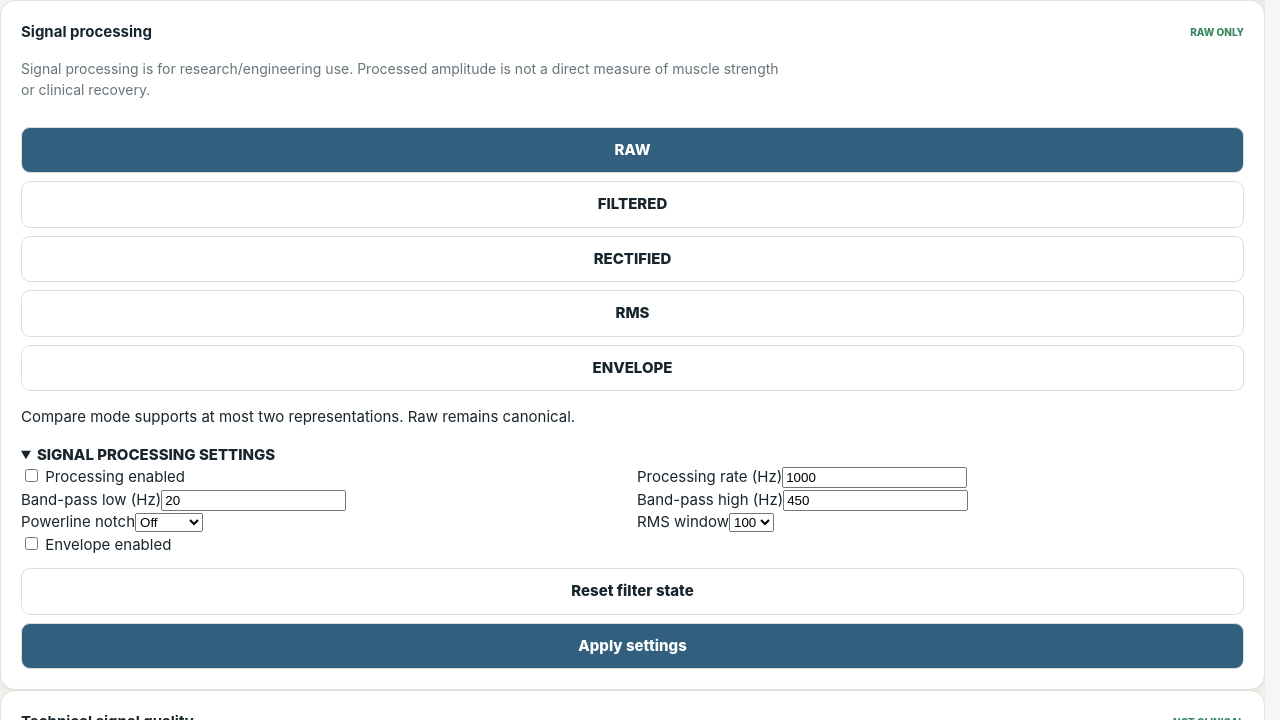
Master EMG processing › rejects a high cutoff at or above Nyquist before applying
Replace the text in the number field labelled "Band-pass high (Hz)" with "500". click: (876, 500)
box: [783,490,968,511]
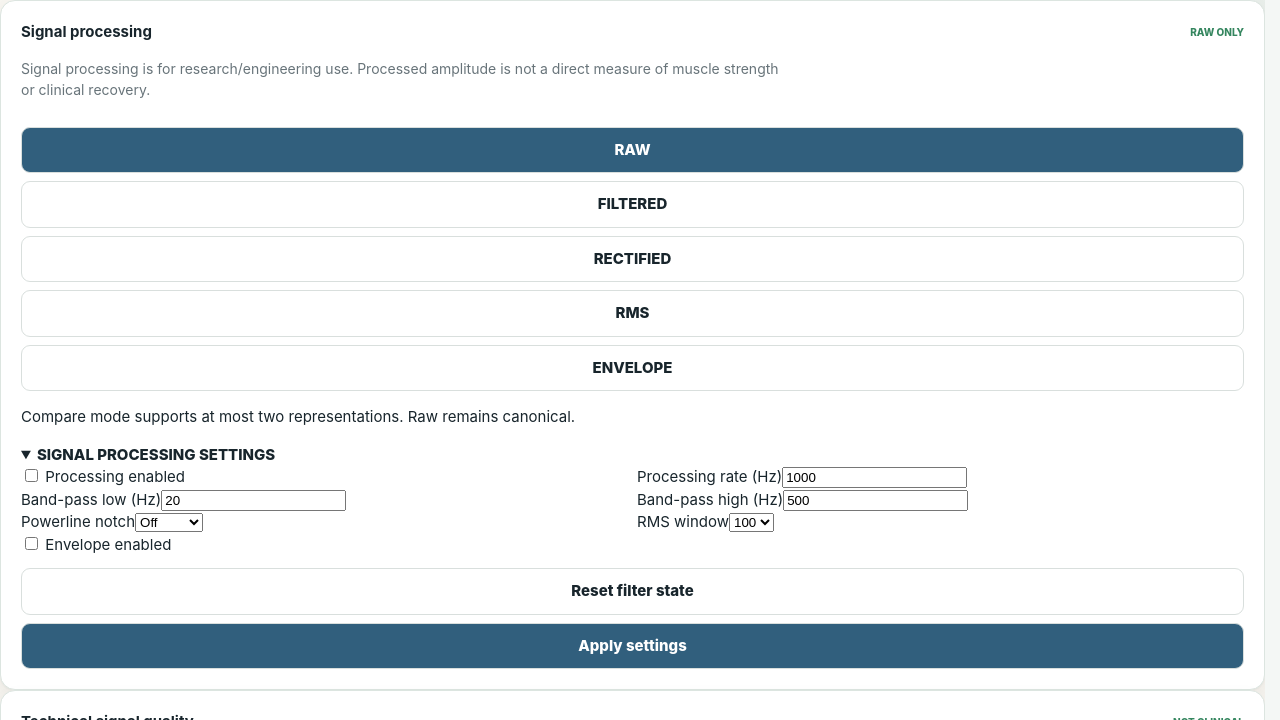
Click the button "Apply settings". click: (632, 646)
box: [21,623,1244,669]
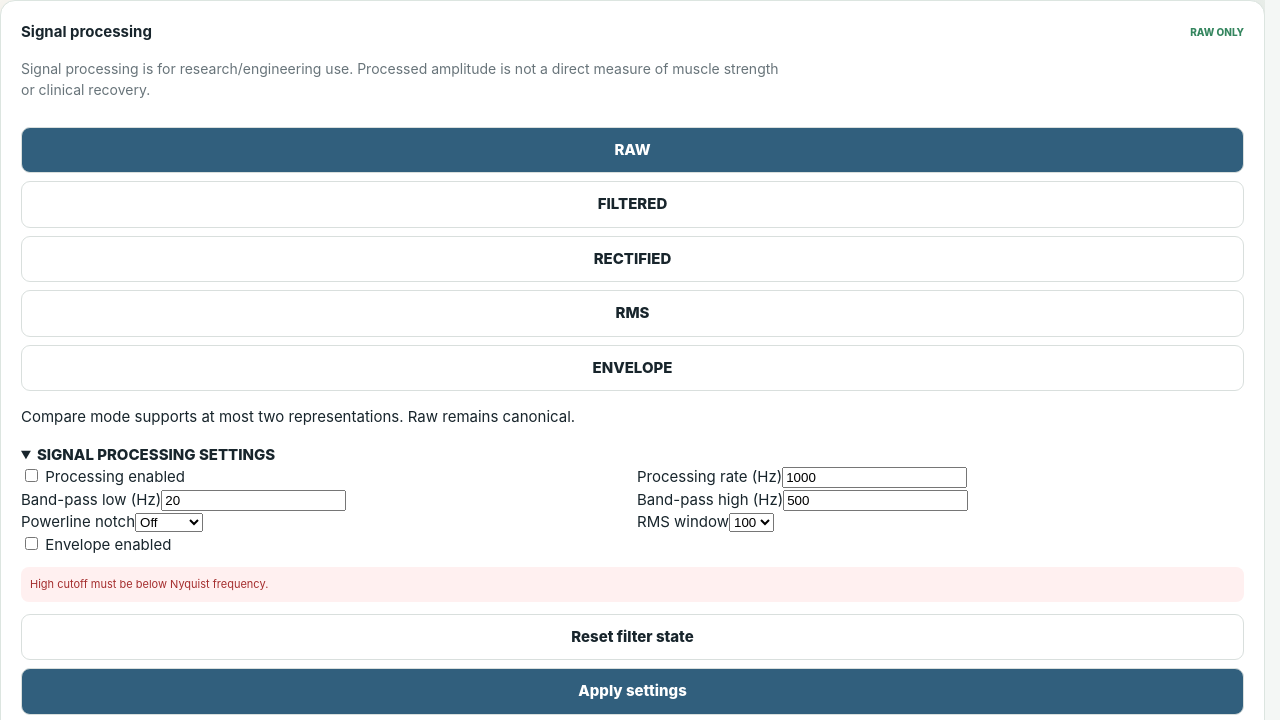
expect the text "High cutoff must be below Nyquist frequency." is shown: met, box [21,567,1244,602]
